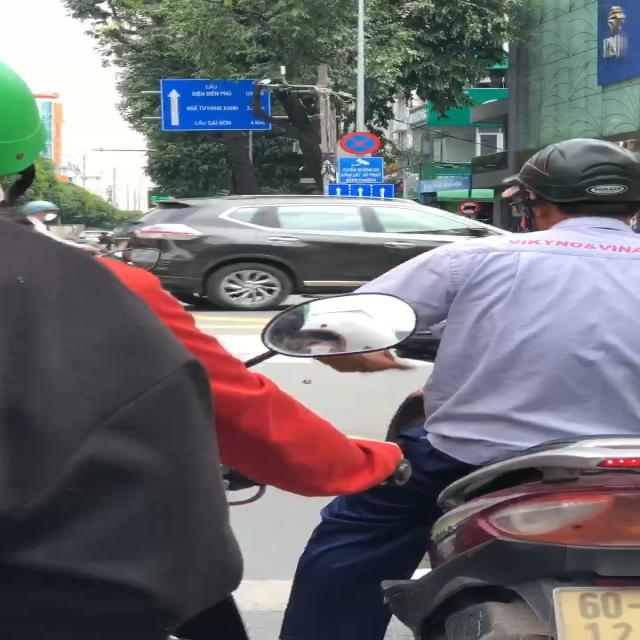Bien bao cam dung xe va do xe: (339, 130, 384, 155)
